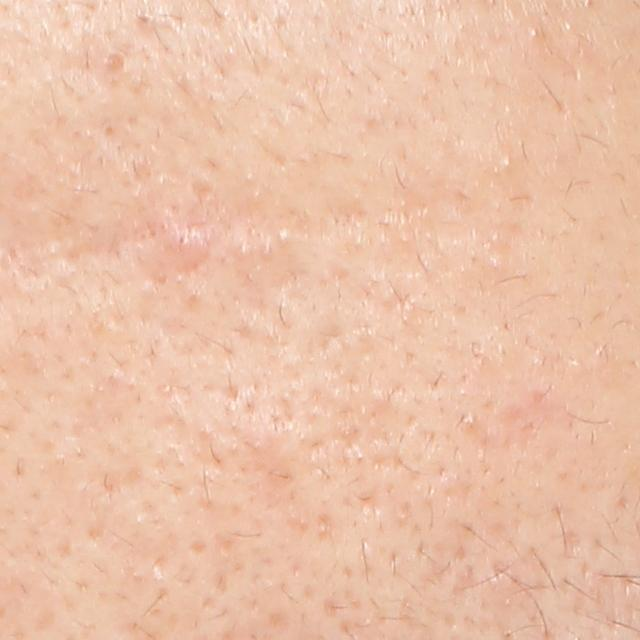comedo: (100, 51, 128, 79), (526, 23, 548, 43), (500, 156, 515, 171)
